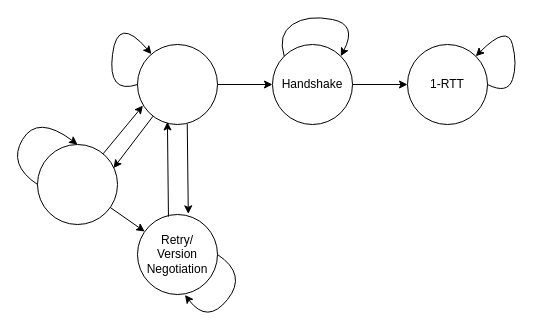
Some shapes in this 533 by 330 pixel diagram are drawn without their labels. Here are the shapes that lost their labels. From the top down, the box of each, then its label:
(136, 44, 218, 124): Initial
(36, 144, 118, 224): 0-rtt
